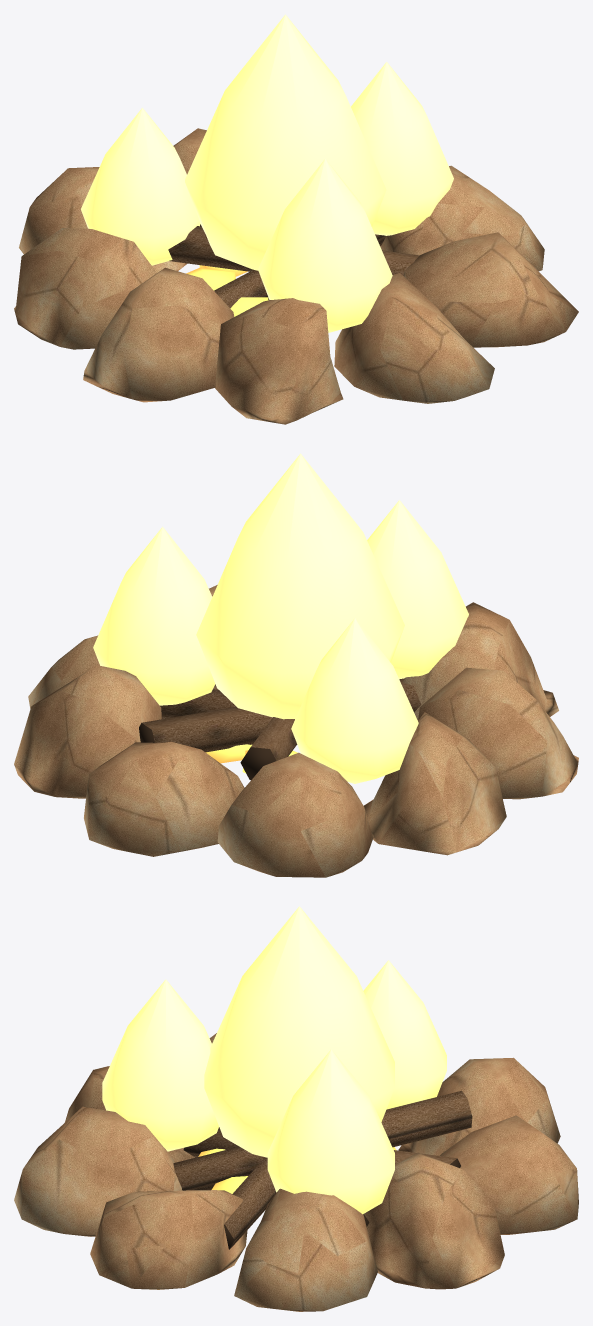
Rendered from campfire.glb.
3 renders of one model, top to bottom at view 1: azimuth 30°, elevation 25°; view 2: azimuth 150°, elevation 25°; view 3: azimuth 270°, elevation 25°, orthographic. The views are drawn at different scales.
Visible parts, largest first — view 1: cold.stones, lit.flame0, lit.flame3, lit.flame2, lit.flame1, cold.sticks, lit.embers; view 2: cold.stones, lit.flame0, lit.flame1, lit.flame2, lit.flame3, cold.sticks, lit.embers; view 3: cold.stones, lit.flame0, lit.flame1, lit.flame3, cold.sticks, lit.flame2.
Part boxes in pixels (x1,y1,x2,y2): cold.stones: [14, 128, 578, 424]; lit.flame0: [185, 14, 386, 270]; lit.flame3: [258, 158, 392, 332]; lit.flame2: [81, 107, 200, 265]; lit.flame1: [351, 62, 453, 235]; cold.sticks: [168, 224, 419, 308]; lit.embers: [186, 265, 268, 316]; cold.stones: [14, 585, 578, 877]; lit.flame0: [196, 453, 404, 719]; lit.flame1: [93, 526, 215, 705]; lit.flame2: [291, 618, 418, 783]; lit.flame3: [367, 500, 468, 679]; cold.sticks: [139, 678, 421, 779]; lit.embers: [205, 744, 297, 773]; cold.stones: [14, 1033, 578, 1311]; lit.flame0: [204, 906, 394, 1157]; lit.flame1: [267, 1049, 394, 1214]; lit.flame3: [102, 979, 218, 1151]; cold.sticks: [173, 1090, 472, 1249]; lit.flame2: [363, 960, 446, 1109].
Bounding box in the file's own units: 1.72 × 0.996 × 1.78.
Materials: 4 (2 with a texture image).
